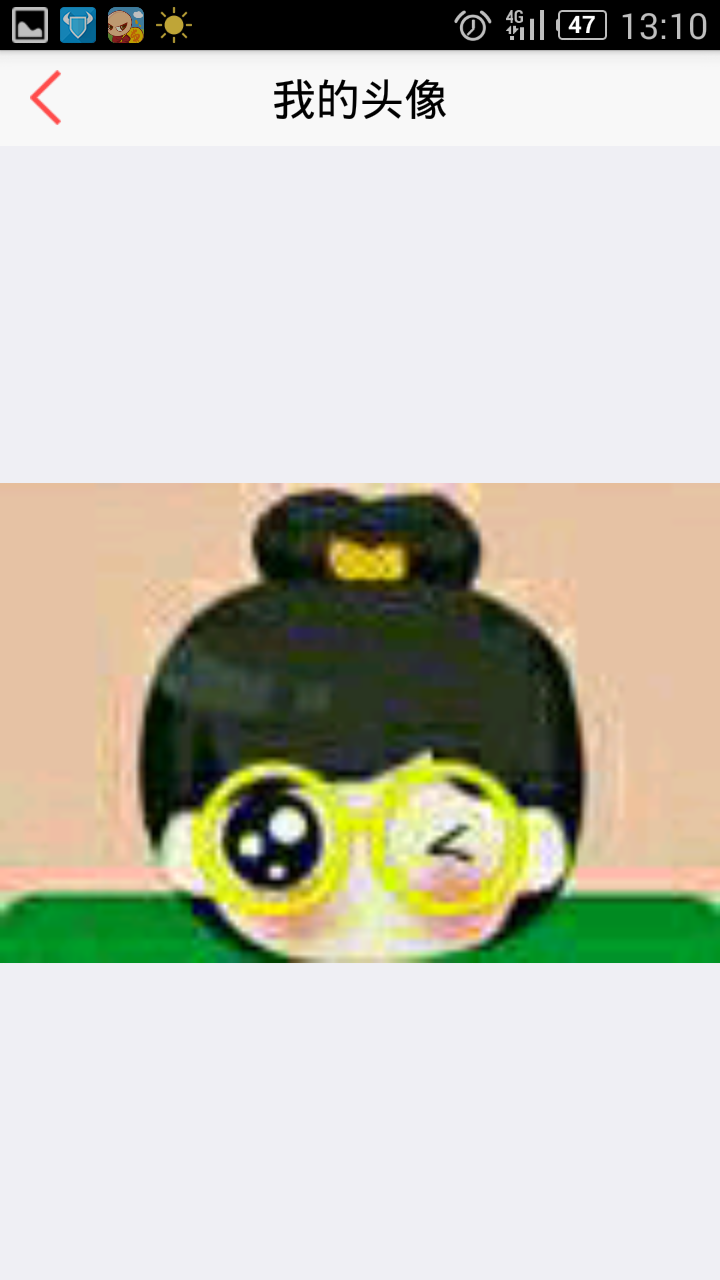imgview: (1, 476, 720, 967)
